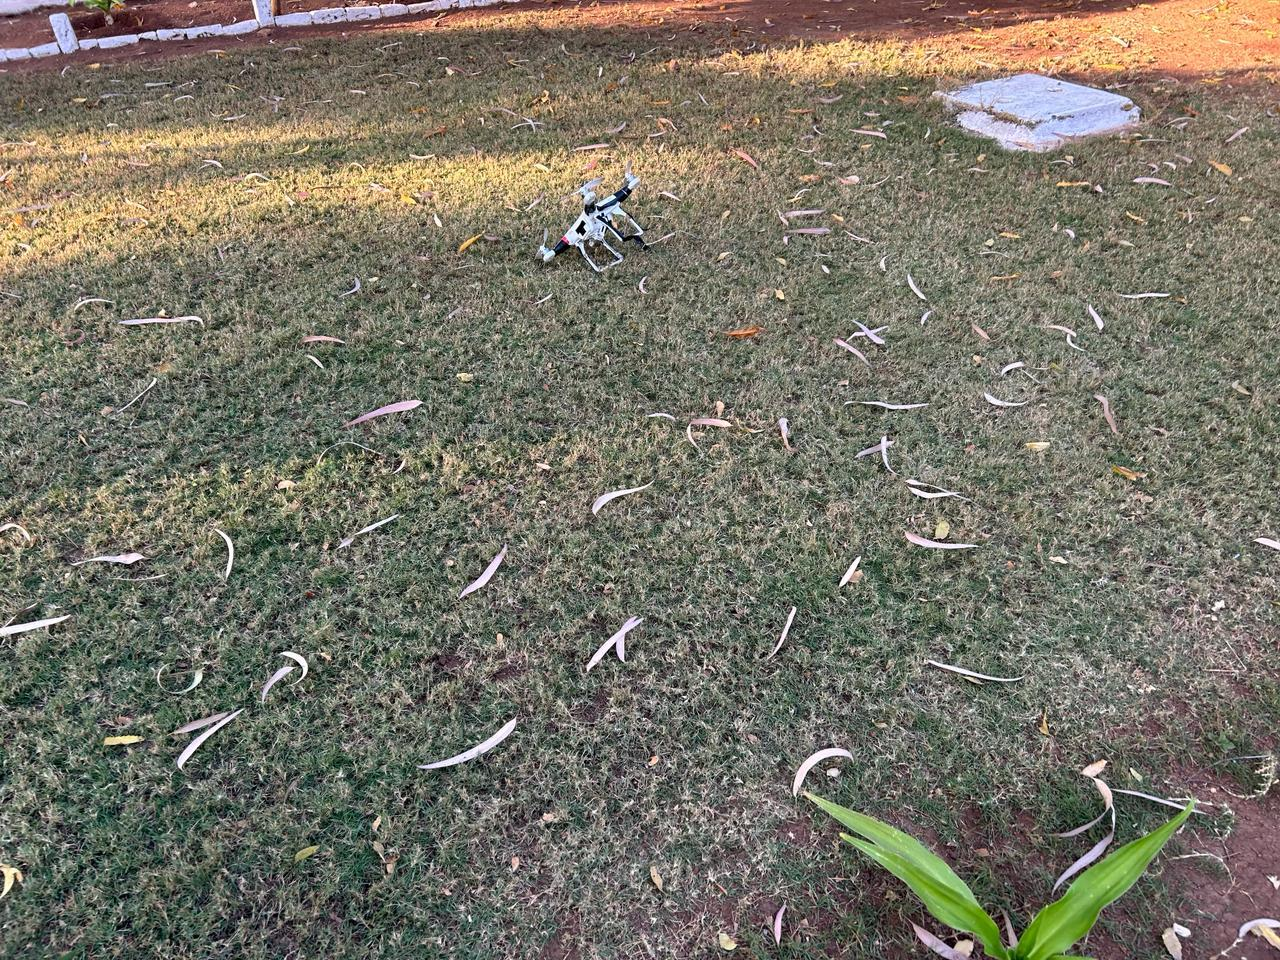drone: (512, 120, 715, 318)
